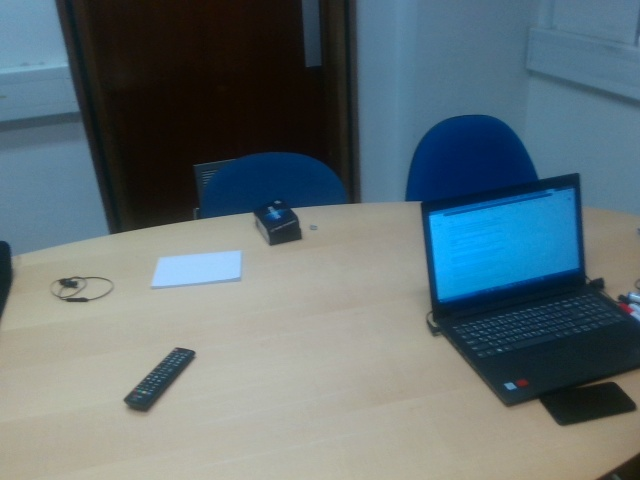remote: (124, 346, 196, 410)
